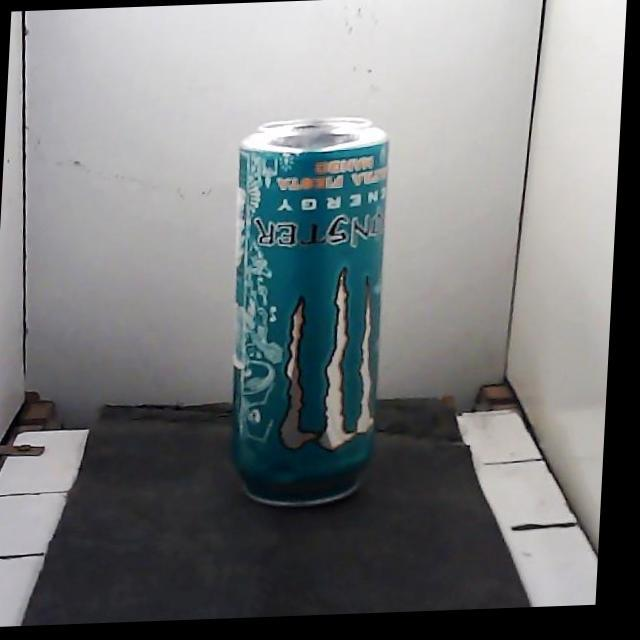metal: (233, 117, 388, 505)
